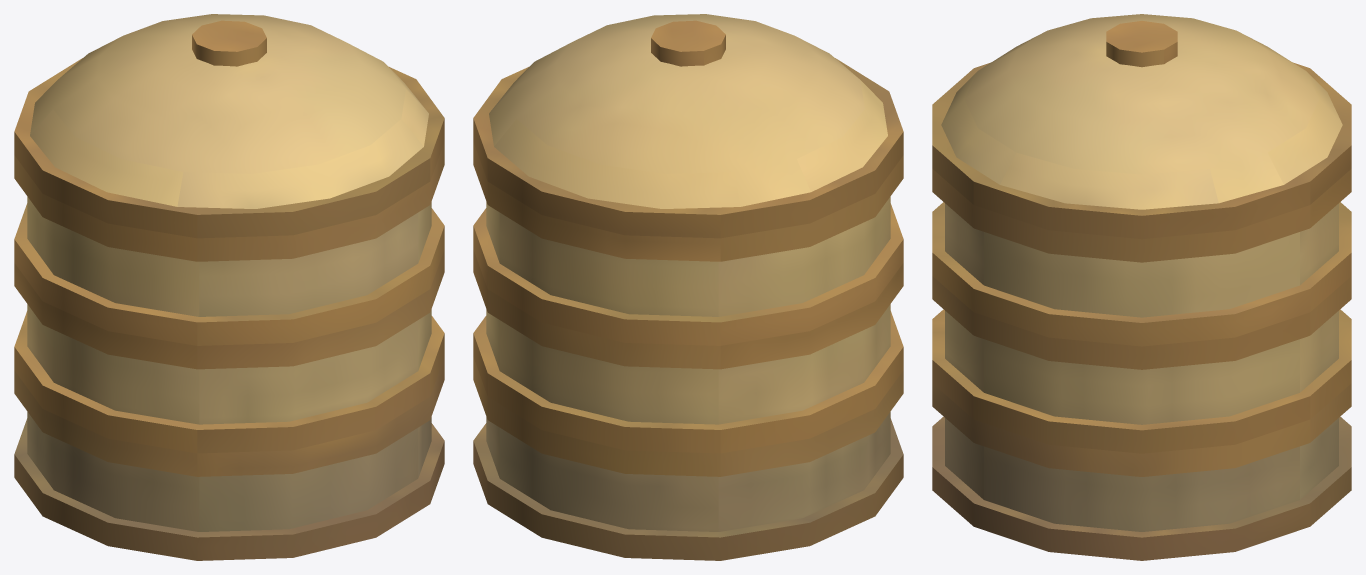
The model's file is steamer_stack.glb.
3 renders of one model, left to right at view 1: azimuth 30°, elevation 25°; view 2: azimuth 150°, elevation 25°; view 3: azimuth 270°, elevation 25°, orthographic.
Visible parts, largest first — view 1: steamer_stack; view 2: steamer_stack; view 3: steamer_stack.
Part boxes in pixels (x1,y1,x2,y2): steamer_stack: (14, 14, 444, 560); steamer_stack: (473, 14, 903, 560); steamer_stack: (932, 14, 1351, 560).
Bounding box in the file's own units: 0.4 × 0.4445 × 0.39.
Materials: 2 (2 with a texture image).
